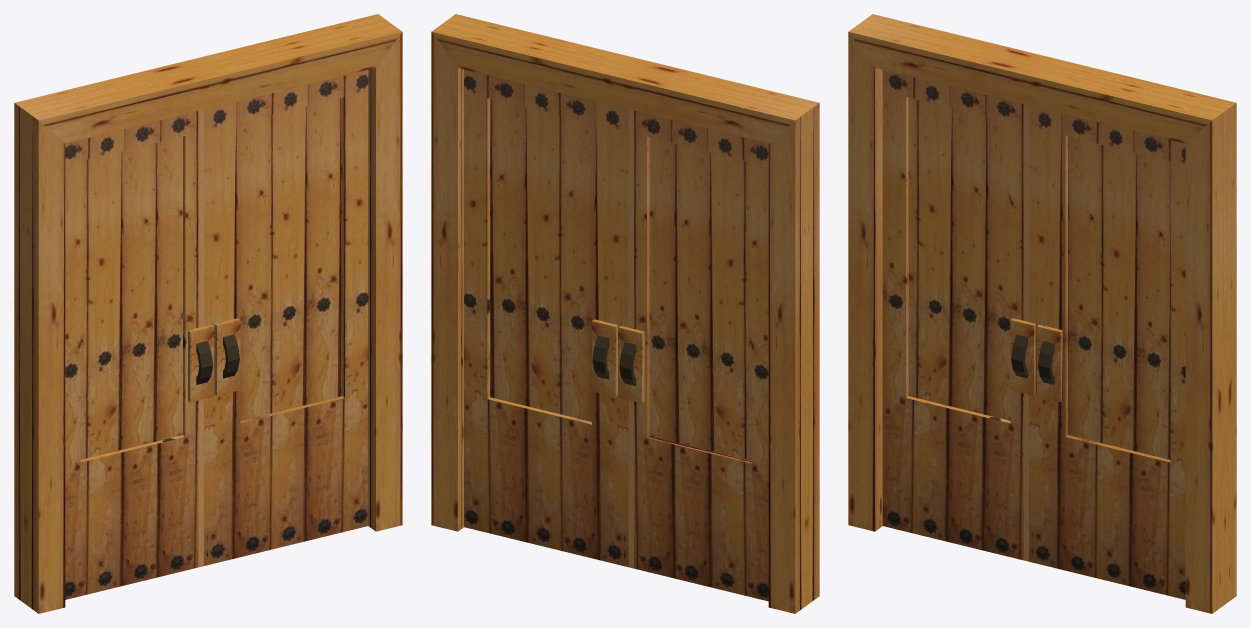
File: Door4.a.fbx
3 views of the same model, side by side, from view 1: azimuth 30°, elevation 25°; view 2: azimuth 150°, elevation 25°; view 3: azimuth 330°, elevation 25° (orthographic).
Visible parts, largest first — view 1: Group 0; view 2: Group 0; view 3: Group 0.
Boxes of the visible parts, box(x1,y1,x2,y2) form: Group 0: box(14, 14, 402, 613); Group 0: box(431, 14, 819, 613); Group 0: box(848, 14, 1236, 613).
Bounding box in the file's own units: 176 × 228 × 21.85.
7 materials, 7 textured.
